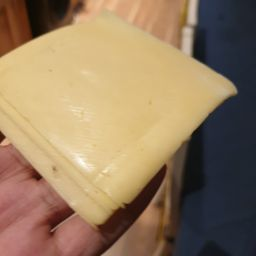Cheddar cheese: (37, 6, 243, 198), (2, 48, 169, 250)
